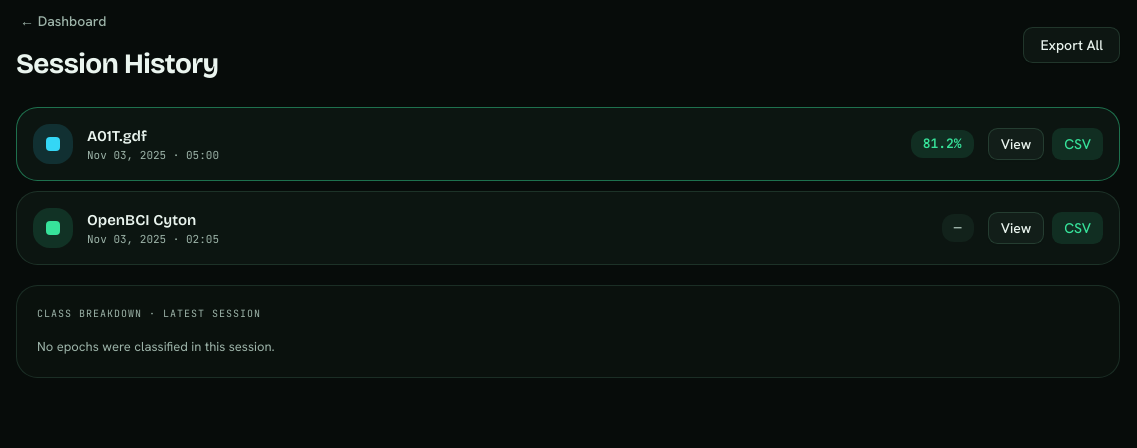
it: CSV export › tells the researcher when an export fails rather than failing silently
This screenshot has width=1137, height=448.
Check: the text "A01T.gdf" is shown, box left=87, top=126, right=147, bottom=144
Click the button "CSV" in the row of "81.2%".
click(1078, 144)  # box left=1052, top=128, right=1103, bottom=160
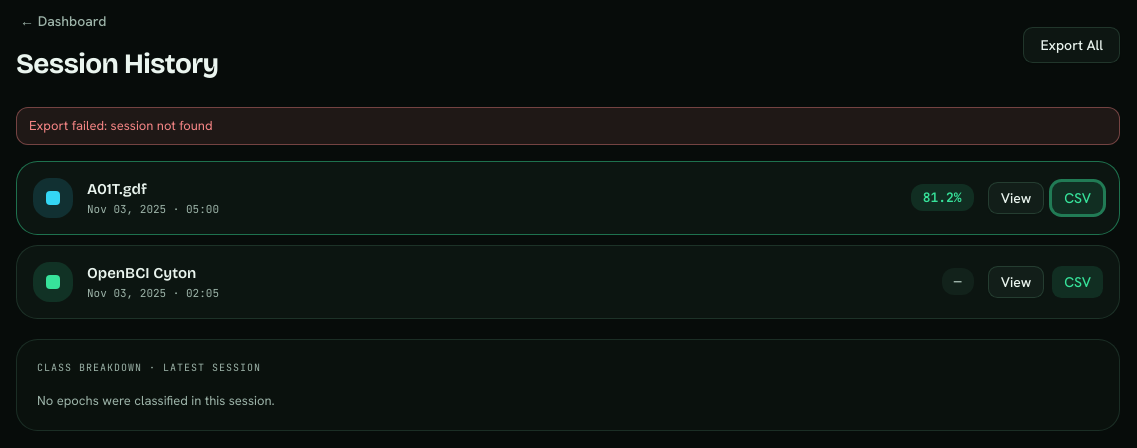
Check: the message shows "session not found", box left=29, top=117, right=212, bottom=134
